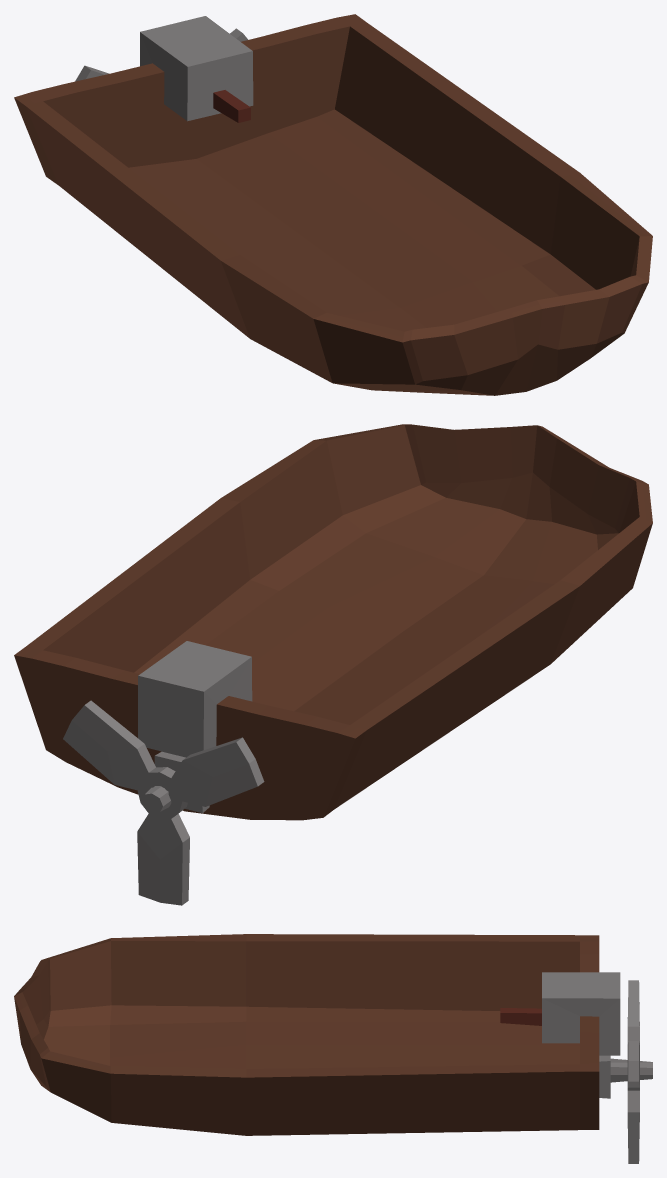
File: BarcoMotor.fbx
3 views of the same model, one above another, from view 1: azimuth 30°, elevation 25°; view 2: azimuth 150°, elevation 25°; view 3: azimuth 270°, elevation 25° (orthographic). The views are drawn at different scales.
Parts seen in each view (by area): view 1: Barco; view 2: Barco, Gear; view 3: Barco, Gear.
Boxes of the visible parts, <box> form: Barco: <box>14,14,652,395</box>; Barco: <box>14,424,652,820</box>; Gear: <box>63,700,264,905</box>; Barco: <box>14,934,652,1135</box>; Gear: <box>627,980,639,1163</box>.
Bounding box in the file's own units: 74.12 × 41.45 × 139.
